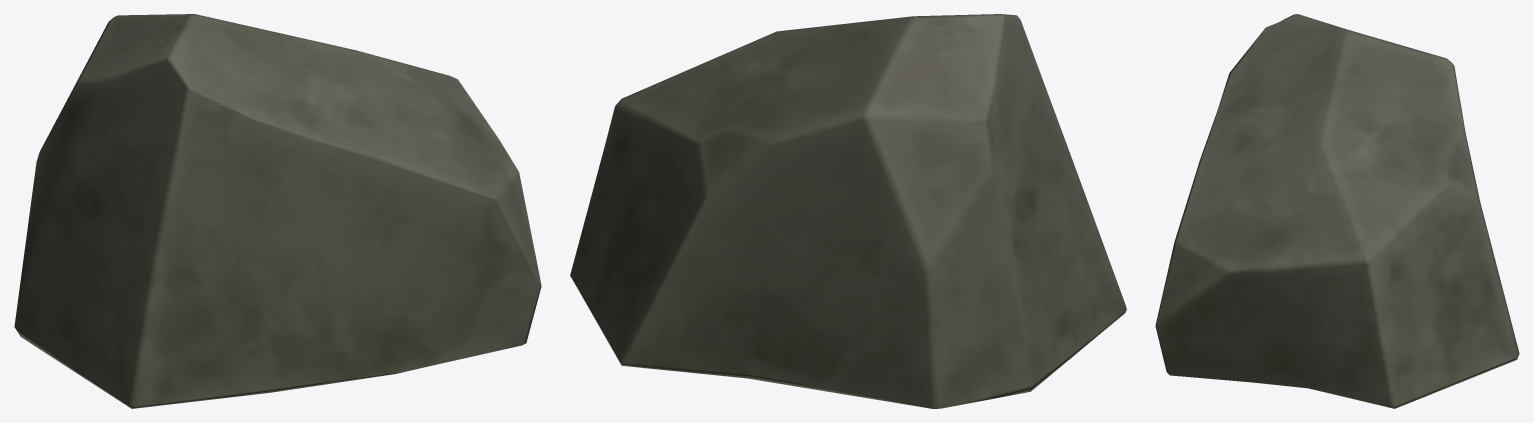
File: AP2_Rock2.glb
3 views of the same model, side by side, from view 1: azimuth 30°, elevation 25°; view 2: azimuth 150°, elevation 25°; view 3: azimuth 270°, elevation 25° (orthographic). The views are drawn at different scales.
Parts seen in each view (by area): view 1: Rock2_LOD0; view 2: Rock2_LOD0; view 3: Rock2_LOD0.
Part boxes in pixels (x1,y1,x2,y2): Rock2_LOD0: [14, 14, 541, 408]; Rock2_LOD0: [570, 14, 1126, 408]; Rock2_LOD0: [1155, 14, 1519, 408].
Size of the model in its own units: 1.6 by 1.04 by 1.34.
Materials: 1 (1 with a texture image).
